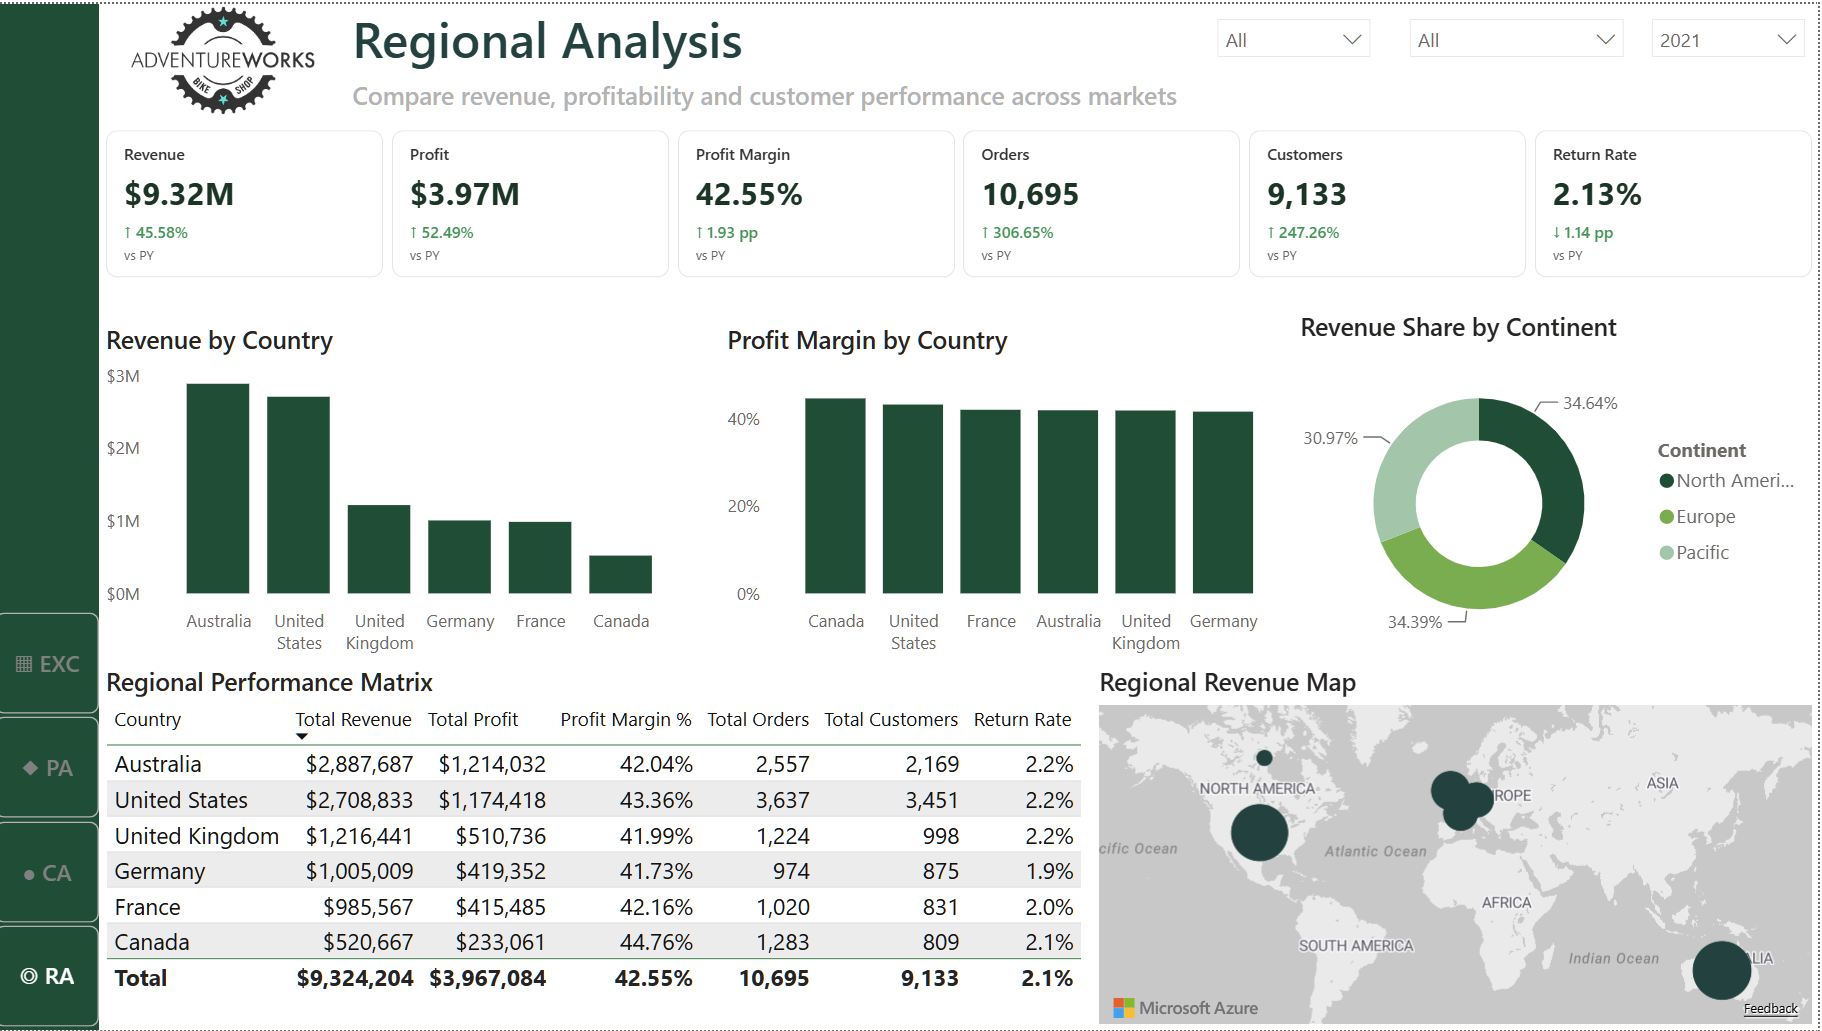

The page's visual inventory and layout, read from the dashboard file:
{"tool":"powerbi","page":{"name":"◎ RA","canvas":[1280,720],"ordinal":3},"visuals":[{"type":"htmlContent443BE3AD55E043BF878BED274D3A6855","fields":{"content":["Measure Table.KPI Cards Regional"]},"box":[72.9,82.9,1207.1,131.4],"z":0},{"type":"shape","box":[0,0,72.9,721.4],"z":1000},{"type":"textbox","title":"Regional Analysis","box":[246.2,1.1,601.5,78.3],"z":2000},{"type":"clusteredColumnChart","title":"Revenue by Country","fields":{"Category":["Territory Lookup.Country"],"Y":["Measure Table.Total Revenue"]},"box":[72.9,222.9,417.1,240],"z":3000},{"type":"columnChart","title":"Profit Margin by Country","fields":{"Category":["Territory Lookup.Country"],"Y":["Measure Table.Profit Margin %"]},"box":[508.9,223.1,401.9,240.1],"z":4000},{"type":"donutChart","title":"Revenue Share by Continent","fields":{"Category":["Territory Lookup.Continent"],"Y":["Measure Table.Total Revenue"]},"box":[910.8,214,369.3,249.2],"z":5000},{"type":"tableEx","title":"Regional Performance Matrix","fields":{"Values":["Territory Lookup.Country","Measure Table.Total Revenue","Measure Table.Total Profit","Measure Table.Profit Margin %","Measure Table.Total Orders","Measure Table.Total Customers","Measure Table.Return Rate"]},"box":[72.9,462.9,697.1,257.1],"z":6000},{"type":"azureMap","title":"Regional Revenue Map","fields":{"Category":["Territory Lookup.Country"],"Size":["Measure Table.Total Revenue"]},"box":[769.8,463.2,510.2,257],"z":7000},{"type":"slicer","fields":{"Values":["Calendar Lookup.Year"]},"box":[1153,0,127,42.3],"z":8000},{"type":"slicer","fields":{"Values":["Territory Lookup.Region"]},"box":[848,0,127,42.3],"z":9000},{"type":"slicer","fields":{"Values":["Product Categories Lookup.CategoryName"]},"box":[983,0,170,42.5],"z":10000},{"type":"pageNavigator","box":[0,427.1,72.9,292.9],"z":11000},{"type":"image","box":[74.6,0,171.6,79.1],"z":11001}]}

Visuals, with their boxes on the page's 1280x720 design canvas (x1, y1, x2, y2). These are canvas units, not pixel positions in the 1822x1031 screenshot, which may show the page scaled, cropped or inside an application window:
htmlContent443BE3AD55E043BF878BED274D3A6855 - Measure Table.KPI Cards Regional: (left=73, top=83, right=1280, bottom=214)
shape: (left=0, top=0, right=73, bottom=721)
"Regional Analysis" textbox: (left=246, top=1, right=848, bottom=79)
"Revenue by Country" clusteredColumnChart: (left=73, top=223, right=490, bottom=463)
"Profit Margin by Country" columnChart: (left=509, top=223, right=911, bottom=463)
"Revenue Share by Continent" donutChart: (left=911, top=214, right=1280, bottom=463)
"Regional Performance Matrix" tableEx: (left=73, top=463, right=770, bottom=720)
"Regional Revenue Map" azureMap: (left=770, top=463, right=1280, bottom=720)
slicer - Calendar Lookup.Year: (left=1153, top=0, right=1280, bottom=42)
slicer - Territory Lookup.Region: (left=848, top=0, right=975, bottom=42)
slicer - Product Categories Lookup.CategoryName: (left=983, top=0, right=1153, bottom=42)
pageNavigator: (left=0, top=427, right=73, bottom=720)
image: (left=75, top=0, right=246, bottom=79)
